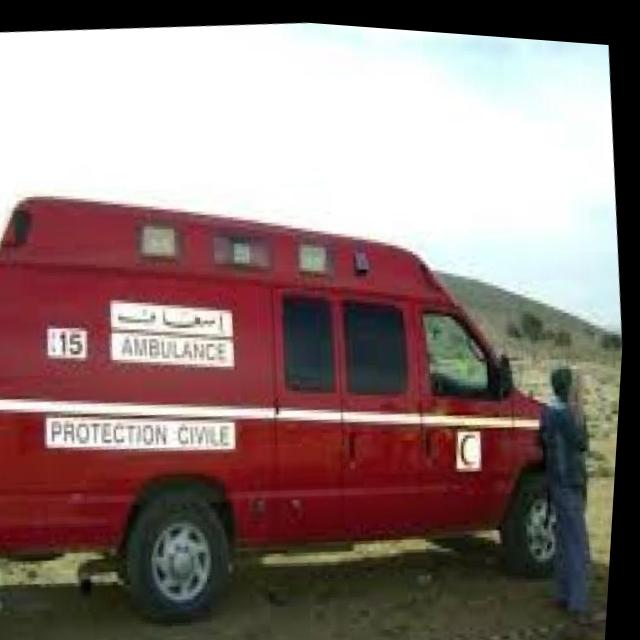ambulance: (0, 112, 628, 640)
